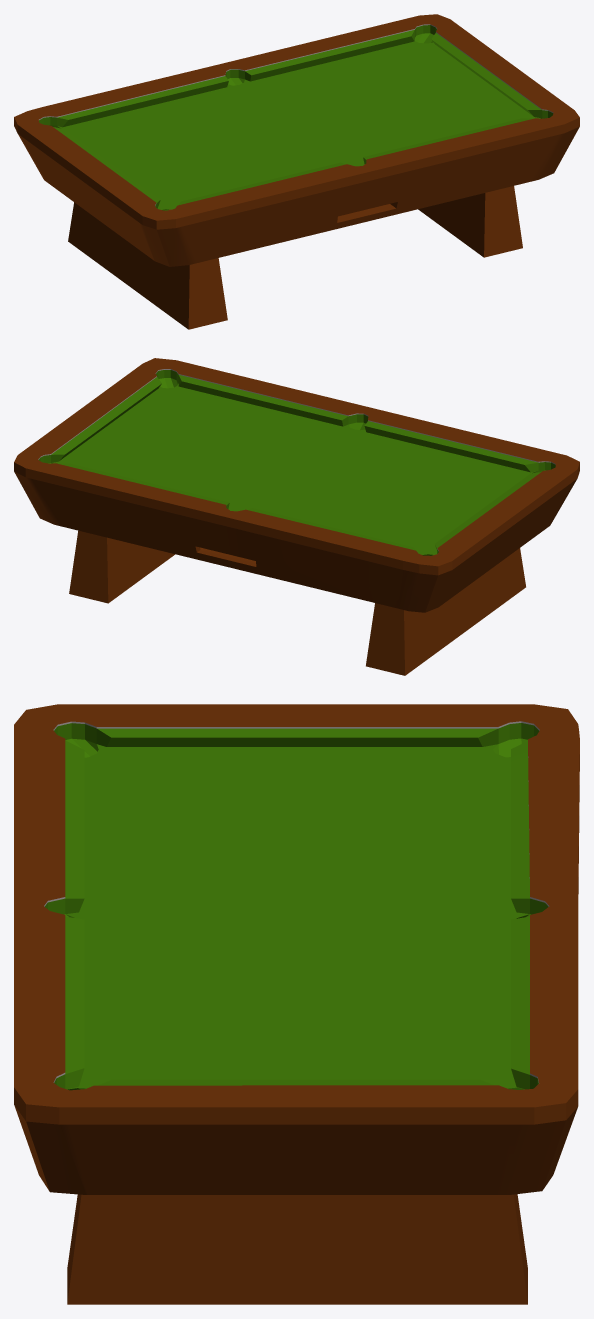
File: table-pool.fbx
3 views of the same model, one above another, from view 1: azimuth 30°, elevation 25°; view 2: azimuth 150°, elevation 25°; view 3: azimuth 270°, elevation 25° (orthographic). The views are drawn at different scales.
Parts seen in each view (by area): view 1: pCube1; view 2: pCube1; view 3: pCube1.
Boxes of the visible parts, x1=… form: pCube1: x1=14, y1=14, x2=579, y2=329; pCube1: x1=14, y1=358, x2=579, y2=675; pCube1: x1=14, y1=704, x2=579, y2=1304.
Size of the model in its own units: 19.75 by 5.56 by 11.72.
